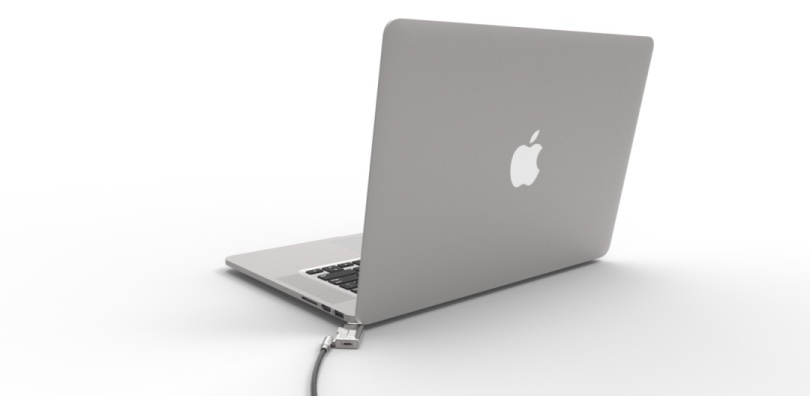apple: (504, 114, 549, 204)
